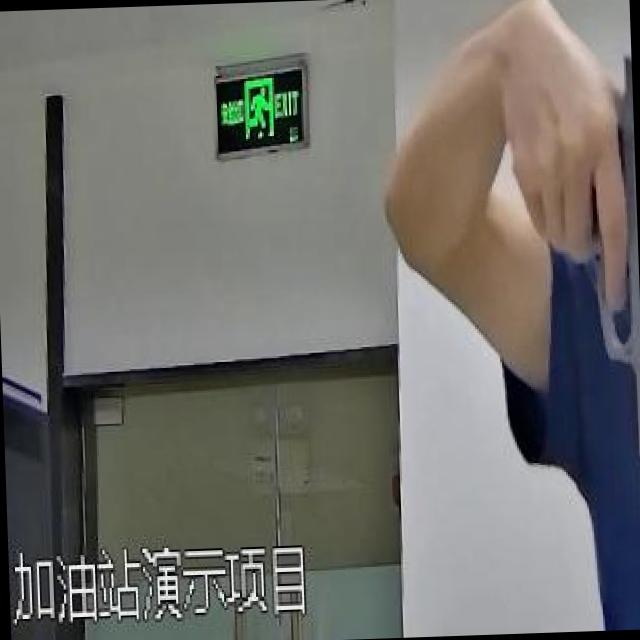Guns: (557, 0, 640, 557)
